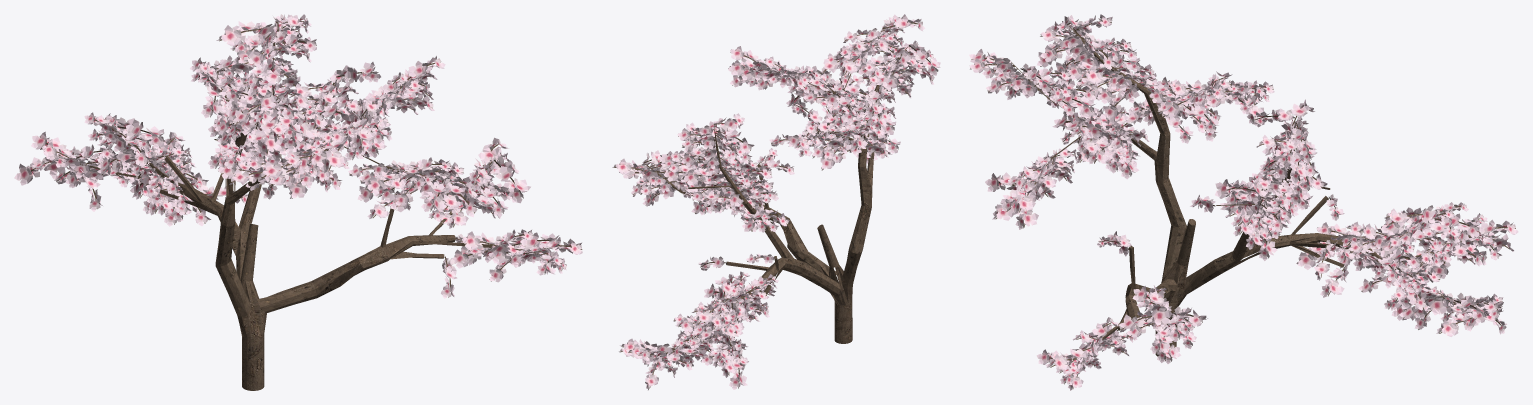
The model's file is sweethome3d-scopia-peach-blossom-380.glb.
3 renders of one model, left to right at view 1: azimuth 30°, elevation 25°; view 2: azimuth 150°, elevation 25°; view 3: azimuth 270°, elevation 25°, orthographic. The views are drawn at different scales.
Visible parts, largest first — view 1: twigs_Plane, tree_tree.067; view 2: twigs_Plane, tree_tree.067; view 3: twigs_Plane, tree_tree.067.
Boxes of the visible parts, box(x1,y1,x2,y2) form: twigs_Plane: box(14, 14, 582, 298); tree_tree.067: box(85, 22, 544, 390); twigs_Plane: box(612, 14, 940, 390); tree_tree.067: box(645, 26, 907, 353); twigs_Plane: box(969, 14, 1518, 390); tree_tree.067: box(1011, 26, 1470, 357).
Bounding box in the file's own units: 504 × 500 × 746.
Materials: 2 (2 with a texture image).
